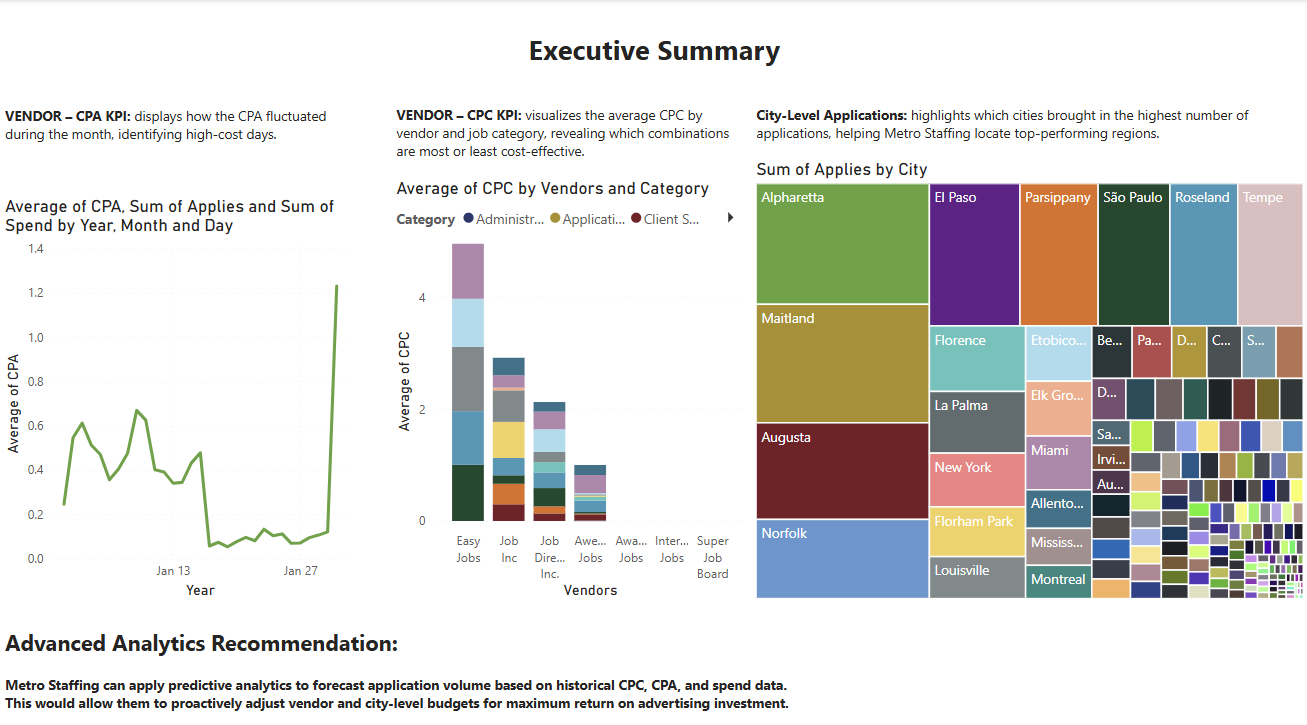

The dashboard page shown, as its layout file describes it:
{"tool":"powerbi","page":{"name":"Executive Summary","canvas":[1280,720],"ordinal":3},"visuals":[{"type":"lineChart","fields":{"Category":["Table1.Date.Variation.Date Hierarchy.Year","Table1.Date.Variation.Date Hierarchy.Month","Table1.Date.Variation.Date Hierarchy.Day"],"Y":["Avg(Table1.CPA)"]},"box":[0,192.3,351.7,399.5],"z":0,"group":"g1"},{"type":"textbox","box":[0,100.6,351.7,66.8],"z":1000,"group":"g1"},{"type":"columnChart","fields":{"Category":["Table1.Vendors"],"Y":["Avg(Table1.CPC)"],"Series":["Table1.Category"]},"box":[383.2,175.2,351.7,416.6],"z":2000,"group":"g1"},{"type":"textbox","box":[383.2,99,351.7,68.4],"z":3000,"group":"g1"},{"type":"treemap","fields":{"Group":["Table1.City"],"Values":["Sum(Table1.Applies)"]},"box":[735,156.5,545.3,435.3],"z":3001,"group":"g2"},{"type":"group","id":"g1","title":"Group 1","box":[0,99,735,492.8],"z":3002,"group":"g2"},{"type":"textbox","box":[735,99,545.3,53.8],"z":3003,"group":"g2"},{"type":"group","id":"g2","title":"Group 2","box":[0,99,1280.3,492.8],"z":3004},{"type":"textbox","box":[0,610.2,785.1,110.1],"z":3005},{"type":"textbox","box":[0,25.7,1280.3,47.7],"z":3006}]}

Visuals, with their boxes in screenshot pixels (x1, y1, x2, y2), scaled from the page's 1280x720 canvas onto the 1307x725 screenshot:
lineChart - Table1.Date.Variation.Date Hierarchy.Year x Table1.Date.Variation.Date Hierarchy.Month: 0/194/359/596
textbox: 0/101/359/169
columnChart - Table1.Vendors x Avg(Table1.CPC): 391/176/750/596
textbox: 391/100/750/169
treemap - Table1.City x Sum(Table1.Applies): 751/158/1306/596
"Group 1" group: 0/100/751/596
textbox: 751/100/1306/154
"Group 2" group: 0/100/1306/596
textbox: 0/614/802/724
textbox: 0/26/1306/74
